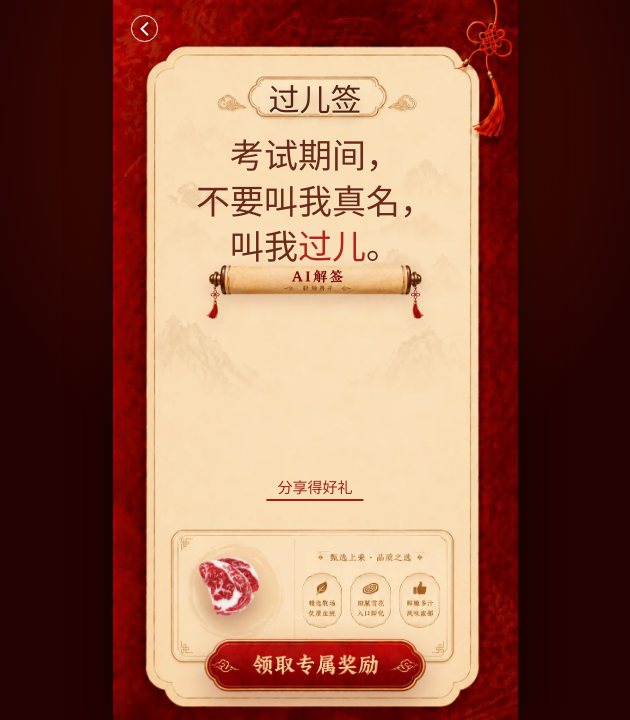
Test: P1 activity home › opens the AI scroll inline on P2 without switching to the P4 page
Click the button with test id "ask-xiaopu".
click(315, 292)  # box [204,263,426,321]
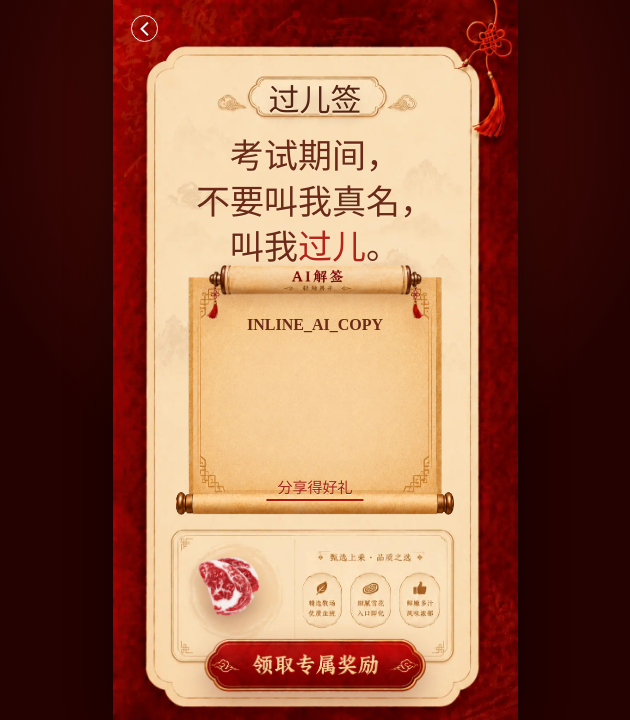
Expected: the element with test id "p2-ai-result" reads "INLINE_AI_COPY", [247,316,383,333]
